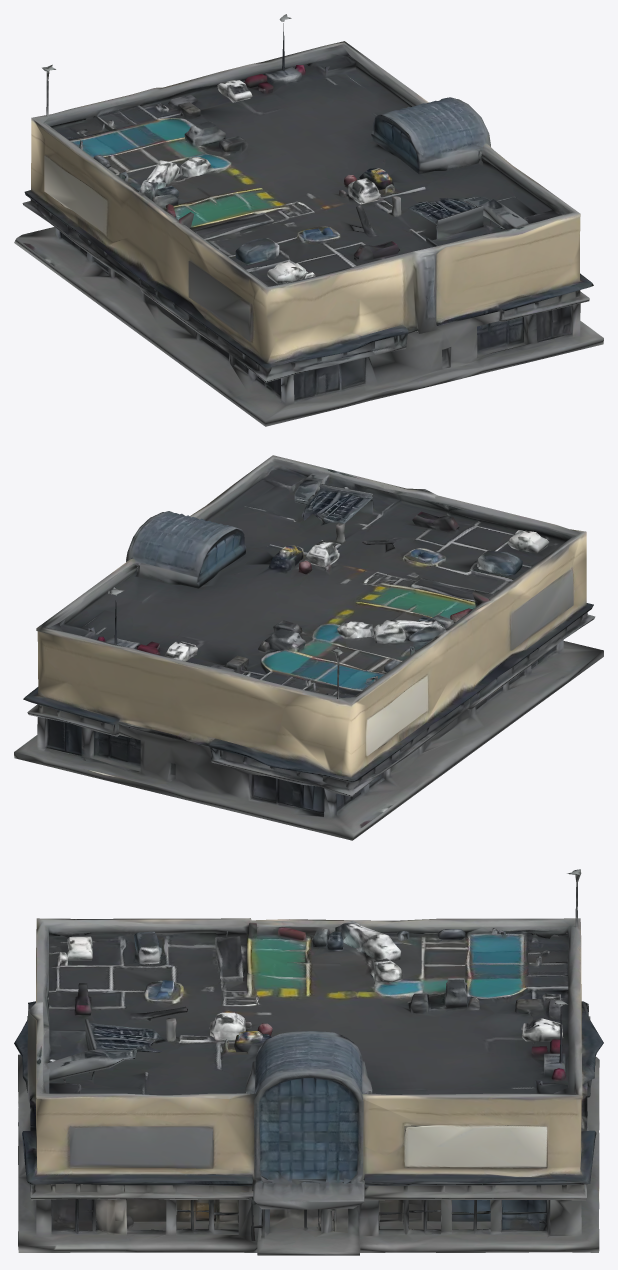
Rendered from shopping_mall.glb.
3 renders of one model, top to bottom at view 1: azimuth 30°, elevation 25°; view 2: azimuth 150°, elevation 25°; view 3: azimuth 270°, elevation 25°, orthographic. The views are drawn at different scales.
Visible parts, largest first — view 1: tripo_node_926935c6-bca0-48cd-8cca-a4449c533697; view 2: tripo_node_926935c6-bca0-48cd-8cca-a4449c533697; view 3: tripo_node_926935c6-bca0-48cd-8cca-a4449c533697.
Boxes of the visible parts, left/top/right/bottom form: tripo_node_926935c6-bca0-48cd-8cca-a4449c533697: left=14, top=14, right=603, bottom=426; tripo_node_926935c6-bca0-48cd-8cca-a4449c533697: left=14, top=455, right=603, bottom=840; tripo_node_926935c6-bca0-48cd-8cca-a4449c533697: left=14, top=869, right=603, bottom=1255.
Size of the model in its own units: 0.8127 by 0.3824 by 1.
1 material, 1 textured.
